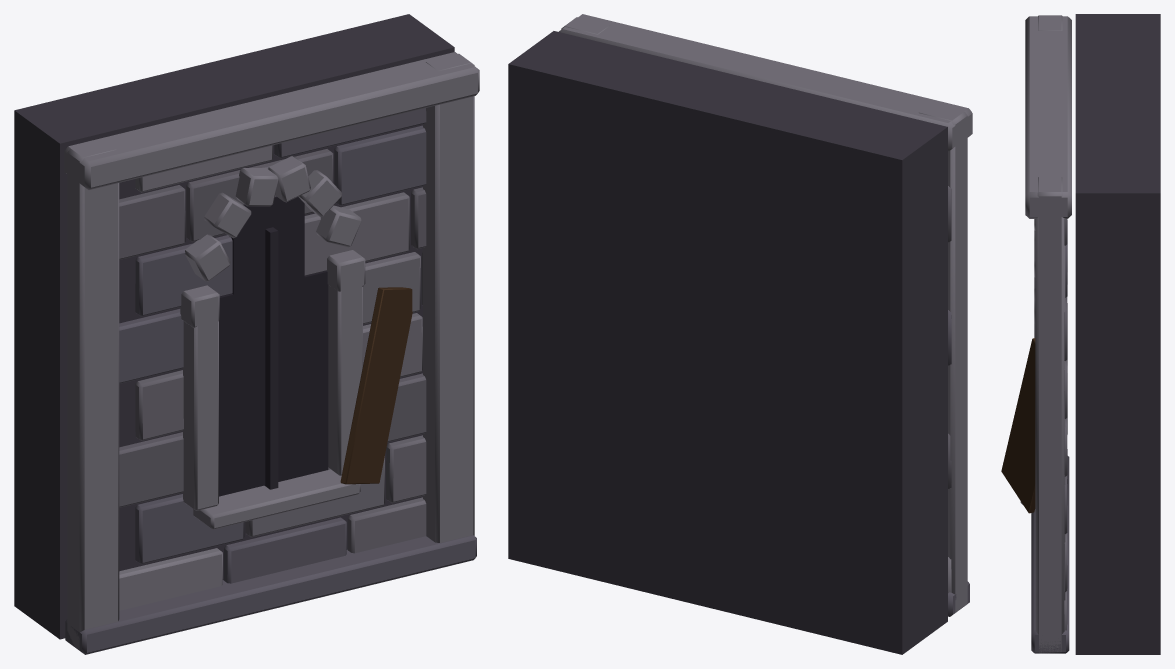
The model's file is grand_wall_bay_dark.glb.
The picture shows the model from 3 angles, left to right: view 1: azimuth 30°, elevation 25°; view 2: azimuth 150°, elevation 25°; view 3: azimuth 270°, elevation 25°; orthographic projection. The views are drawn at different scales.
Visible parts, largest first — view 1: grand_wall_bay_dark; view 2: grand_wall_bay_dark; view 3: grand_wall_bay_dark.
Boxes of the visible parts, box(x1,y1,x2,y2) form: grand_wall_bay_dark: box(14, 14, 479, 654); grand_wall_bay_dark: box(508, 14, 972, 654); grand_wall_bay_dark: box(1001, 14, 1160, 654).
Size of the model in its own units: 5 by 6 by 1.88.
